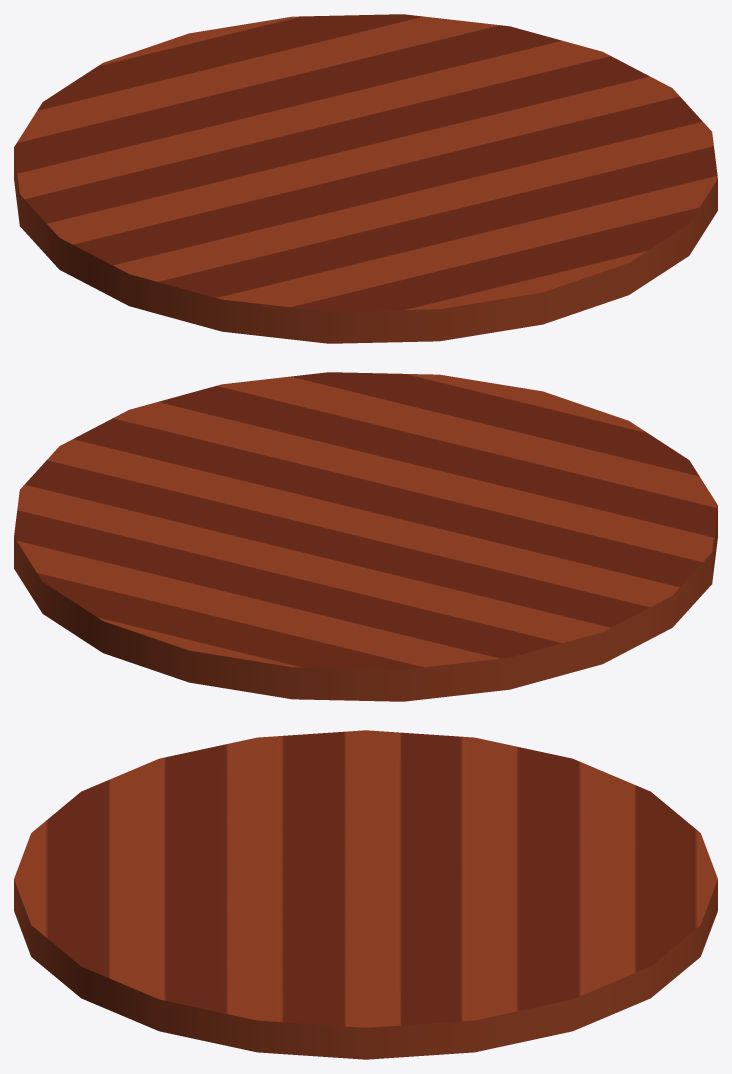
The model's file is Patty_Slice.glb.
3 views of the same model, one above another, from view 1: azimuth 30°, elevation 25°; view 2: azimuth 150°, elevation 25°; view 3: azimuth 270°, elevation 25° (orthographic).
Parts seen in each view (by area): view 1: Patty_Slice; view 2: Patty_Slice; view 3: Patty_Slice.
Part boxes in pixels (x1,y1,x2,y2): Patty_Slice: (14,14,717,343); Patty_Slice: (14,372,717,701); Patty_Slice: (14,730,717,1059).
Size of the model in its own units: 20 by 1 by 20.
Materials: 1 (1 with a texture image).
